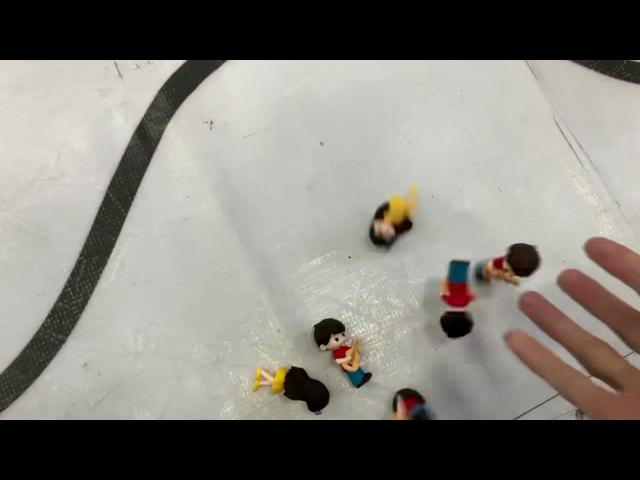man: (311, 314, 375, 390), (476, 240, 542, 298), (438, 251, 479, 341), (389, 380, 441, 420)
woman: (254, 362, 332, 416), (368, 184, 418, 252)
